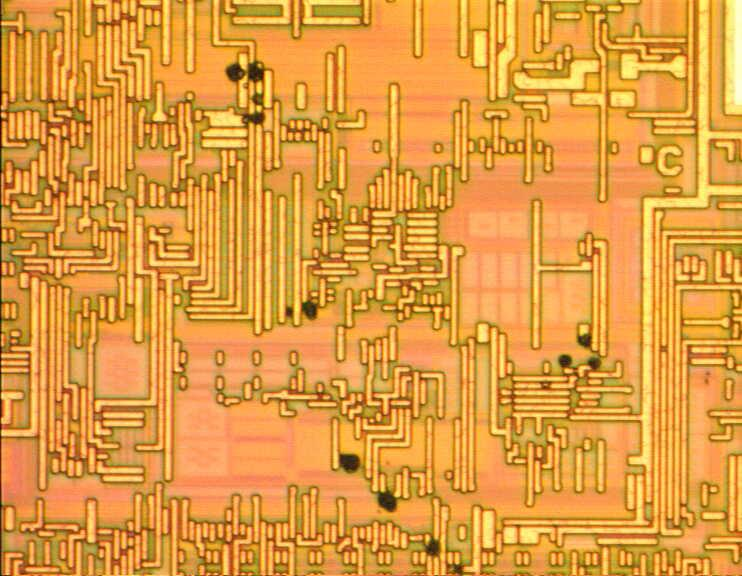PO CONTAMINATION: (217, 54, 608, 576)
